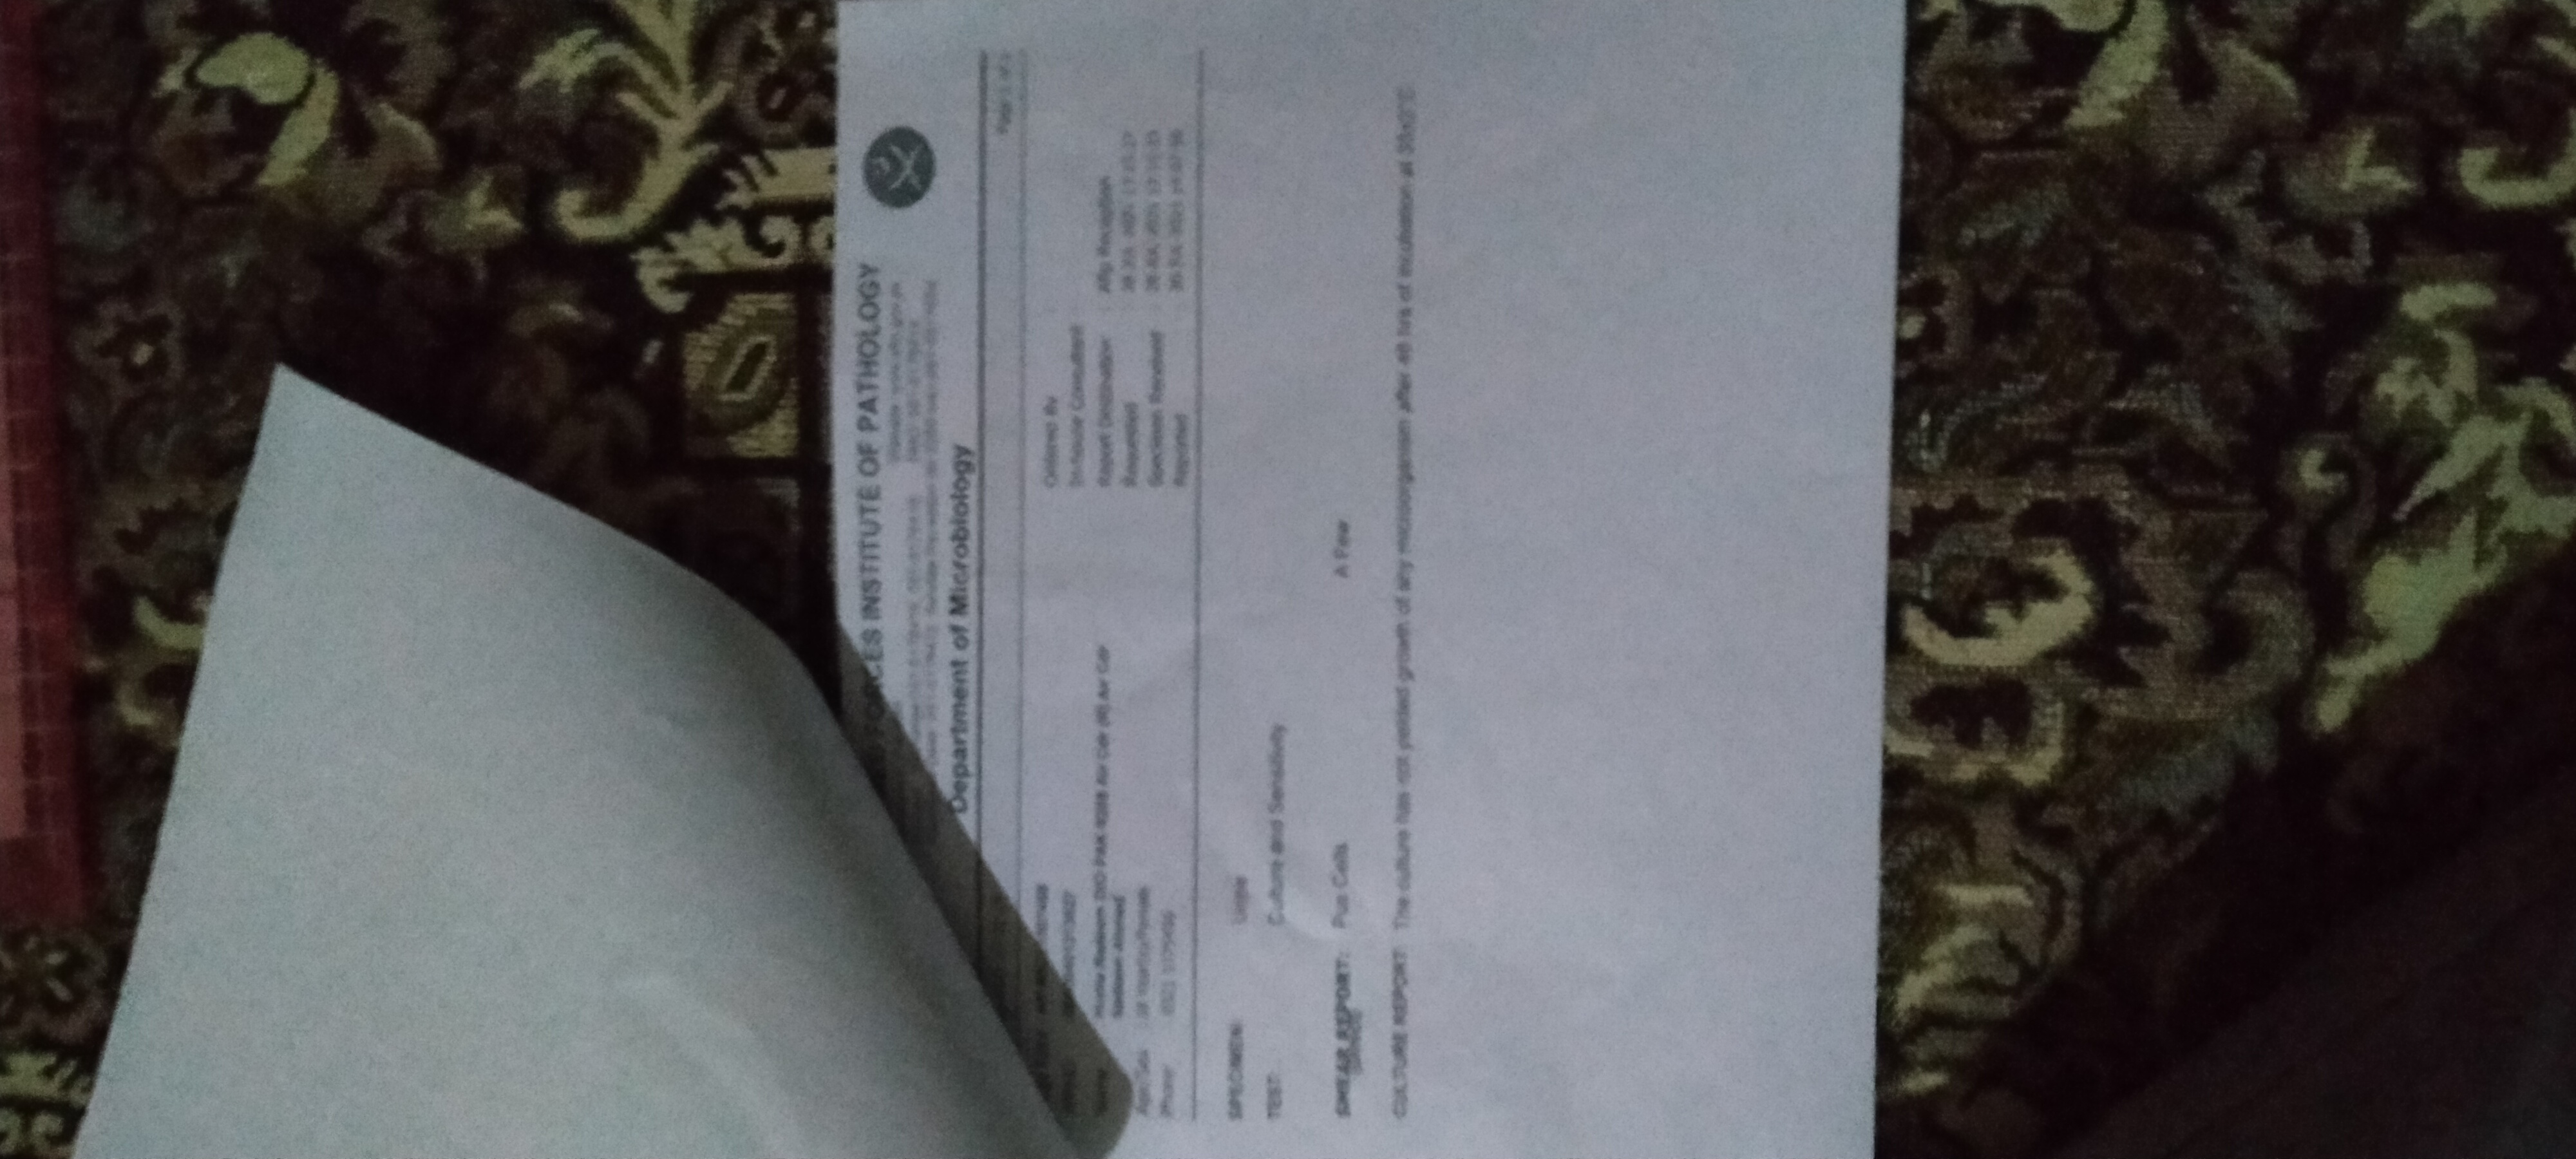report: (959, 30, 1436, 1151)
